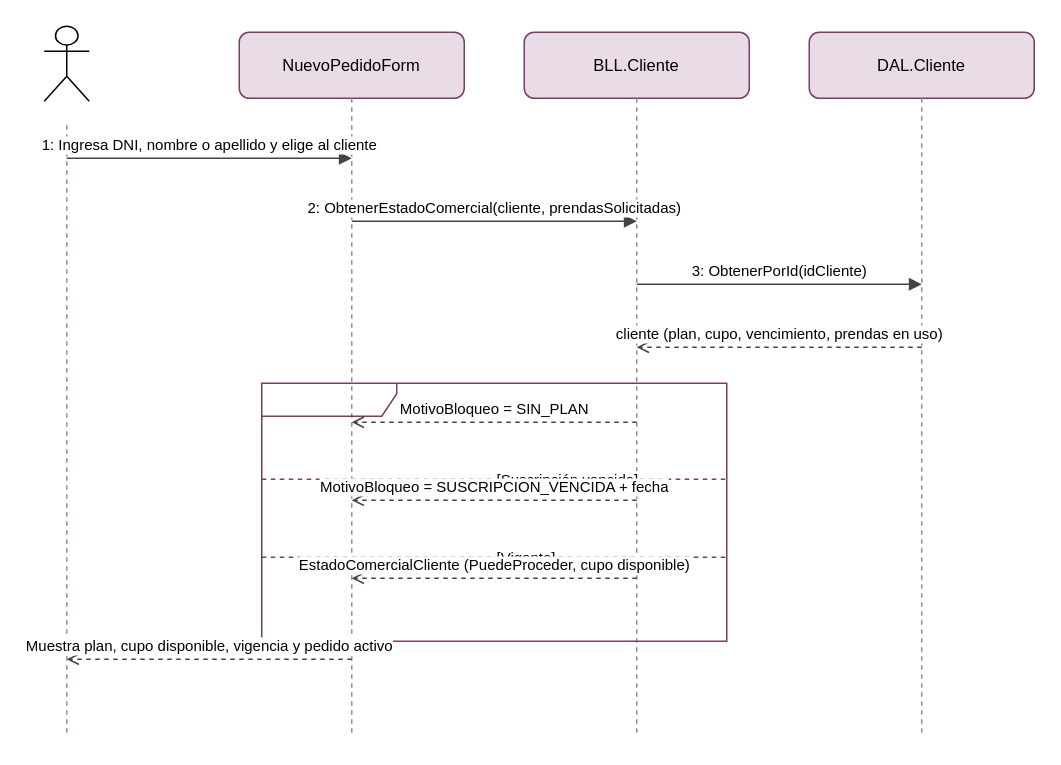
Some shapes in this 1061 by 765 pixel diagram are drawn without their labels. Each missing label, with the centre of its shape:
alt [Sin plan]: the point at 493,511
Vendedor: the point at 66,63
